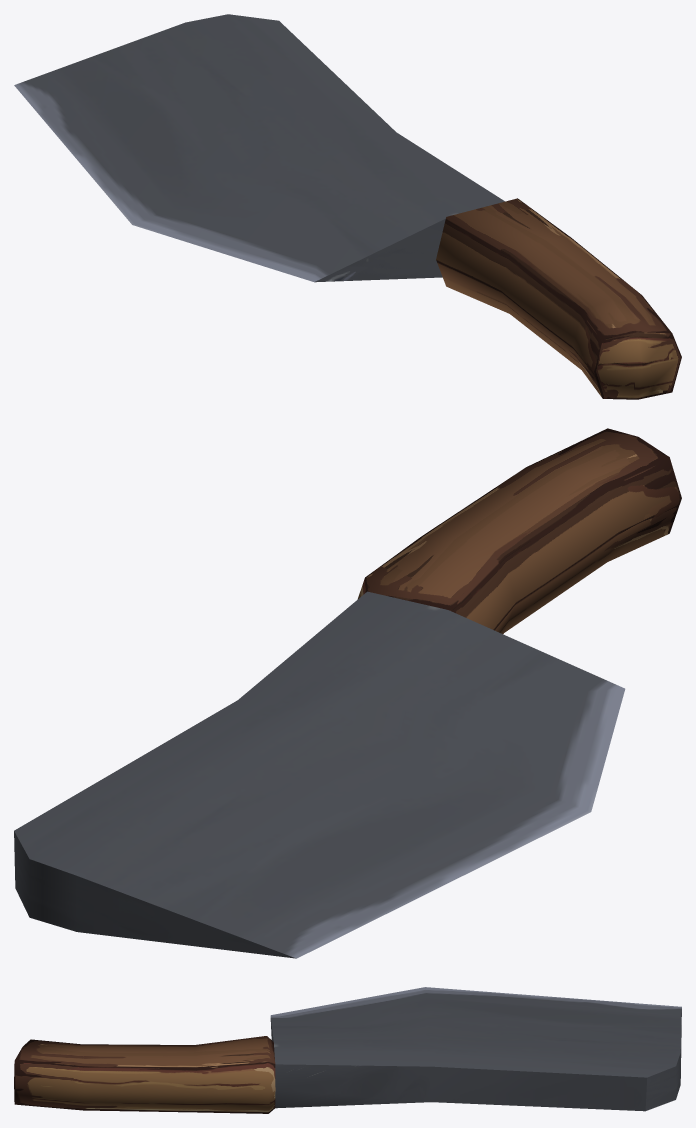
File: SM_PROP_knife_dungeon_01.fbx
The picture shows the model from 3 angles, top to bottom: view 1: azimuth 30°, elevation 25°; view 2: azimuth 150°, elevation 25°; view 3: azimuth 270°, elevation 25°; orthographic projection. The views are drawn at different scales.
Visible parts, largest first — view 1: SM_PROP_knife_dungeon_01; view 2: SM_PROP_knife_dungeon_01; view 3: SM_PROP_knife_dungeon_01.
Part boxes in pixels (x1,y1,x2,y2): SM_PROP_knife_dungeon_01: (14, 14, 681, 399); SM_PROP_knife_dungeon_01: (14, 428, 681, 958); SM_PROP_knife_dungeon_01: (14, 987, 681, 1113).
Bounding box in the file's own units: 17.73 × 3.98 × 46.6.
